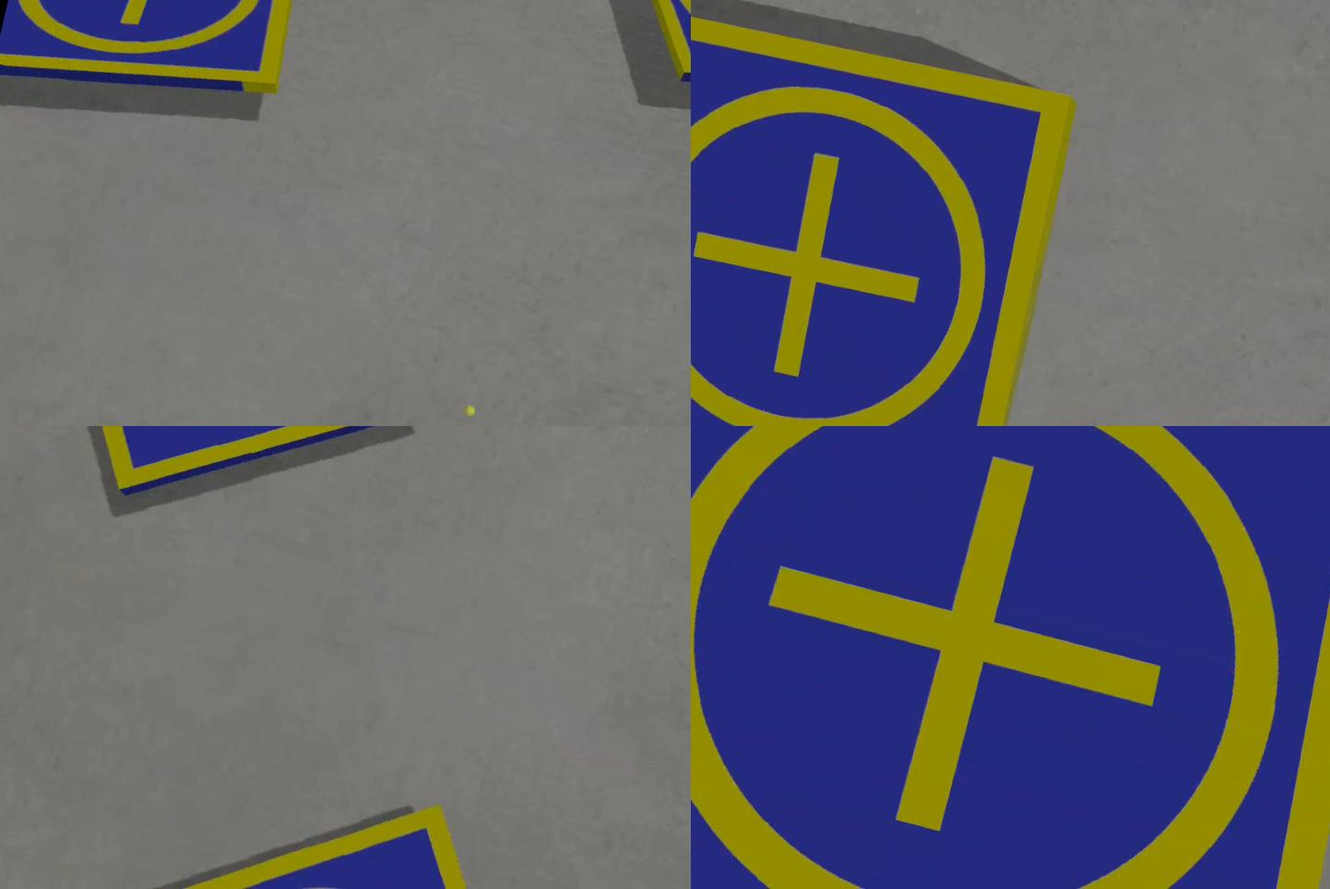small_base: (692, 427, 1330, 889), (692, 1, 1082, 427), (53, 729, 620, 889), (1, 427, 483, 563), (1, 1, 318, 138)
